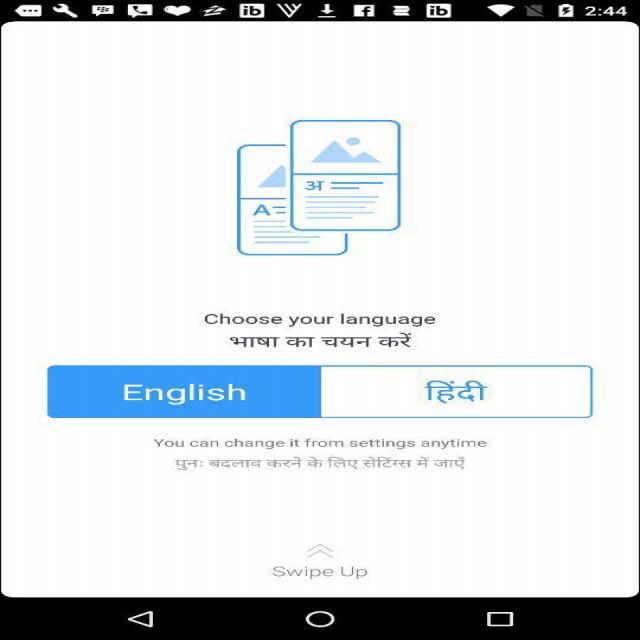button: (56, 368, 304, 420), (330, 371, 589, 420)
icon: (278, 528, 354, 562)
image: (226, 105, 419, 277)
text: (145, 429, 530, 483), (185, 299, 468, 358), (258, 565, 402, 584)
